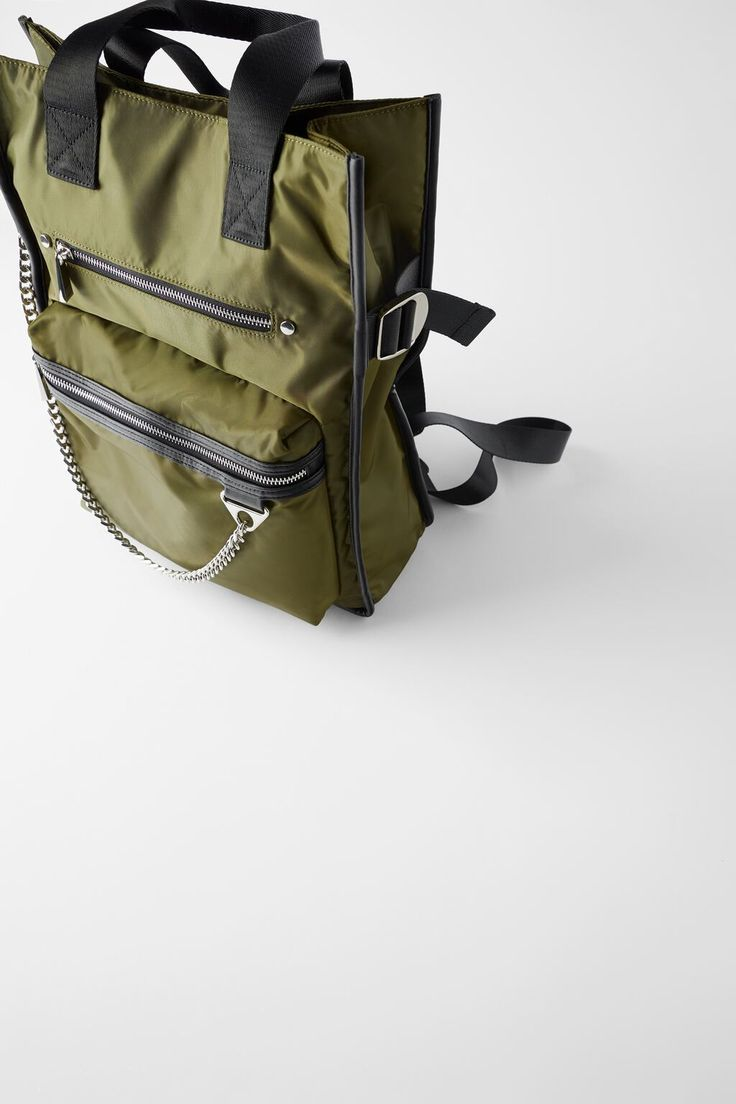nylon: (1, 1, 571, 627)
